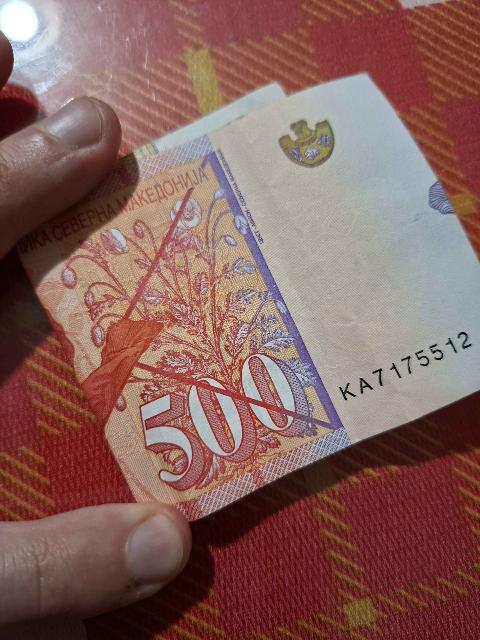500_note: (19, 76, 479, 519)
